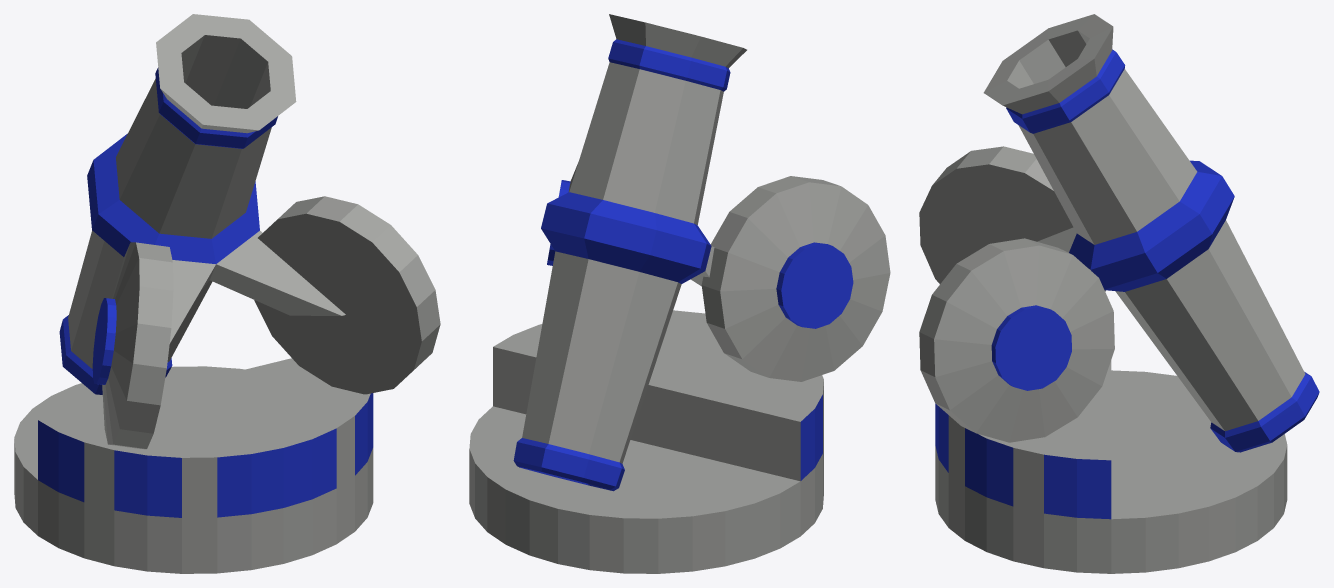
Rendered from Mortar_Basic_Water.fbx.
3 renders of one model, left to right at view 1: azimuth 30°, elevation 25°; view 2: azimuth 150°, elevation 25°; view 3: azimuth 270°, elevation 25°, orthographic. The views are drawn at different scales.
Visible parts, largest first — view 1: Circle; view 2: Circle; view 3: Circle.
Boxes of the visible parts, <box> form: Circle: <box>14,14,440,573</box>; Circle: <box>469,14,890,573</box>; Circle: <box>919,14,1319,573</box>.
Size of the model in its own units: 492 by 724 by 555.
Materials: 1 (1 with a texture image).
